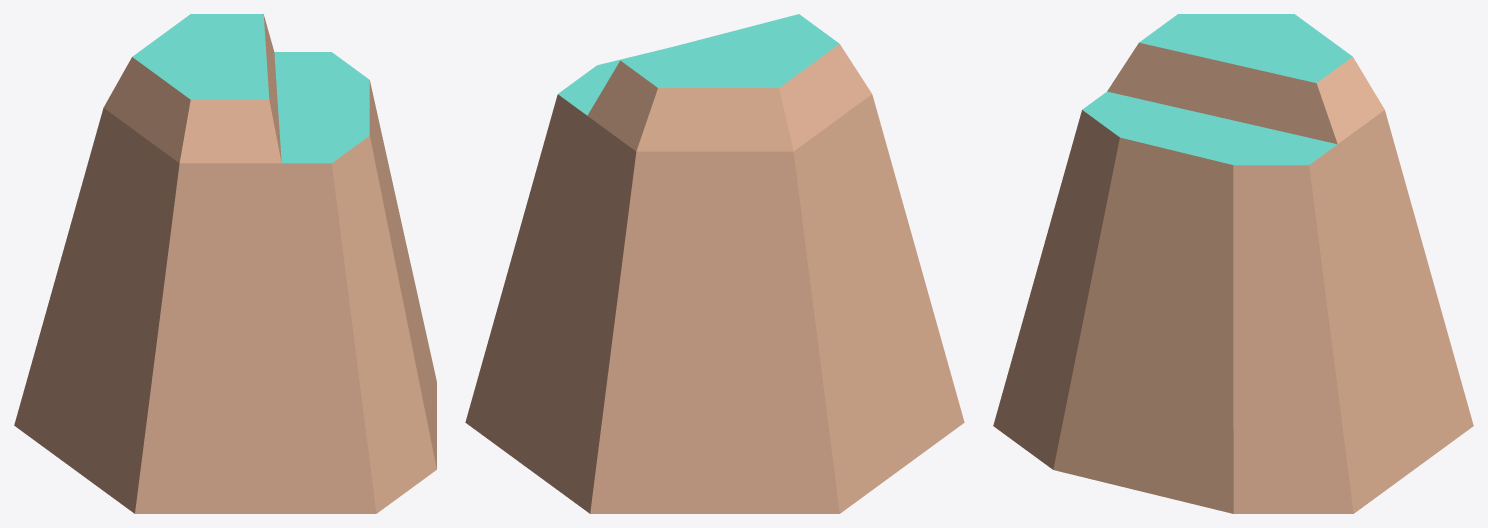
The model's file is Cliff_Simple4.fbx.
3 renders of one model, left to right at view 1: azimuth 30°, elevation 25°; view 2: azimuth 150°, elevation 25°; view 3: azimuth 270°, elevation 25°, orthographic. The views are drawn at different scales.
Parts seen in each view (by area): view 1: Cliff_Simple4; view 2: Cliff_Simple4; view 3: Cliff_Simple4.
Boxes of the visible parts, x1,y1,x2,y2 form: Cliff_Simple4: (14, 14, 436, 513); Cliff_Simple4: (465, 14, 964, 513); Cliff_Simple4: (993, 14, 1473, 513).
Size of the model in its own units: 835 by 812 by 964.
